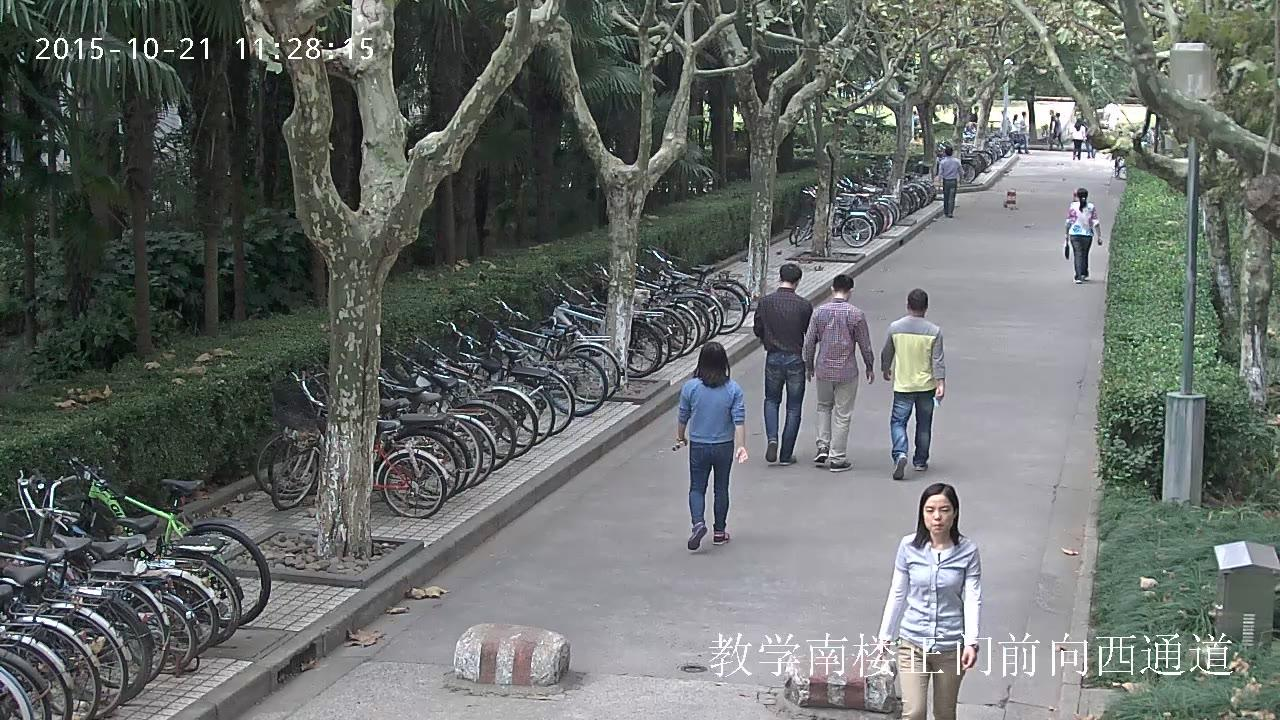person: (874, 482, 983, 720), (671, 341, 749, 550), (804, 273, 874, 471), (879, 289, 946, 480), (752, 262, 814, 464), (1062, 186, 1103, 283), (937, 146, 964, 217), (1070, 118, 1084, 159), (1017, 111, 1029, 153), (1053, 112, 1065, 148), (1011, 115, 1022, 151), (1085, 124, 1096, 157), (970, 105, 979, 122)
